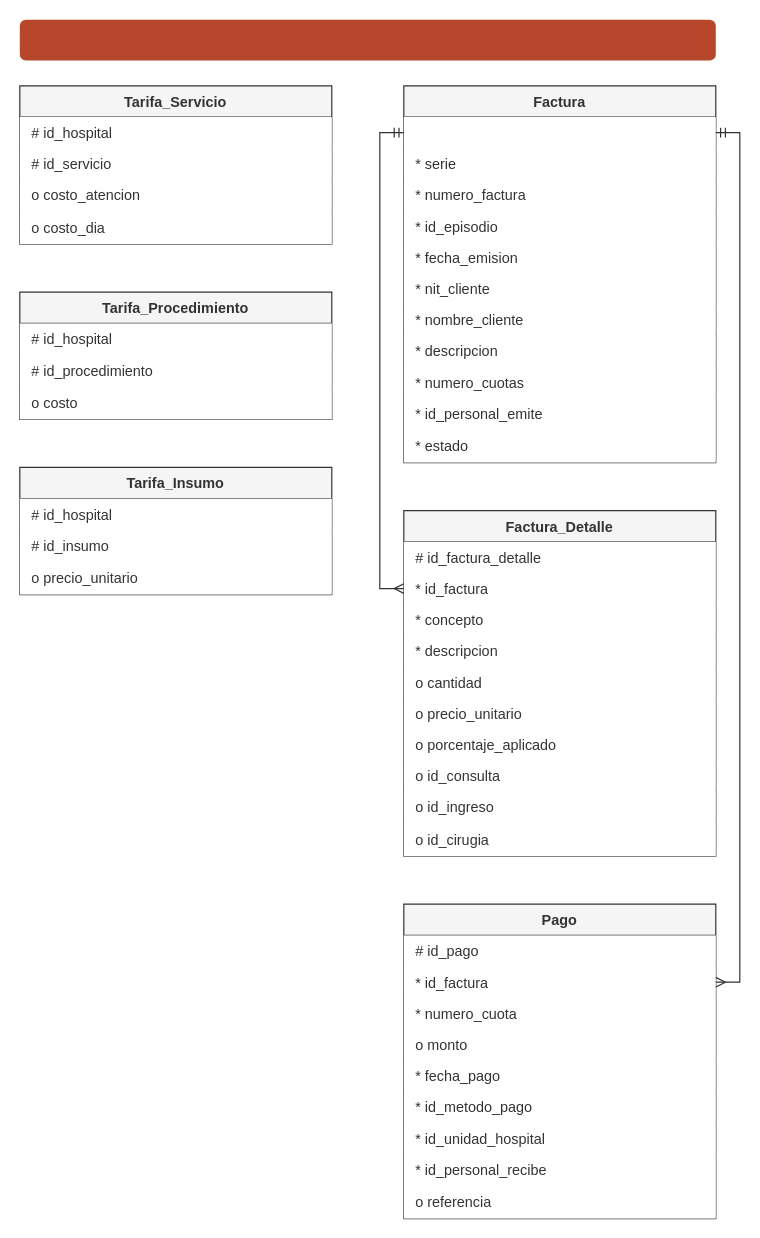
The diagram is 760 pixels wide and 1238 high, and some of its shapes have lost their labels. The centre of each missing label's shape, as x and y in pixels:
# id_factura: point (559, 132)
M7. FACTURACIÓN Y PAGOS: point (367, 39)
